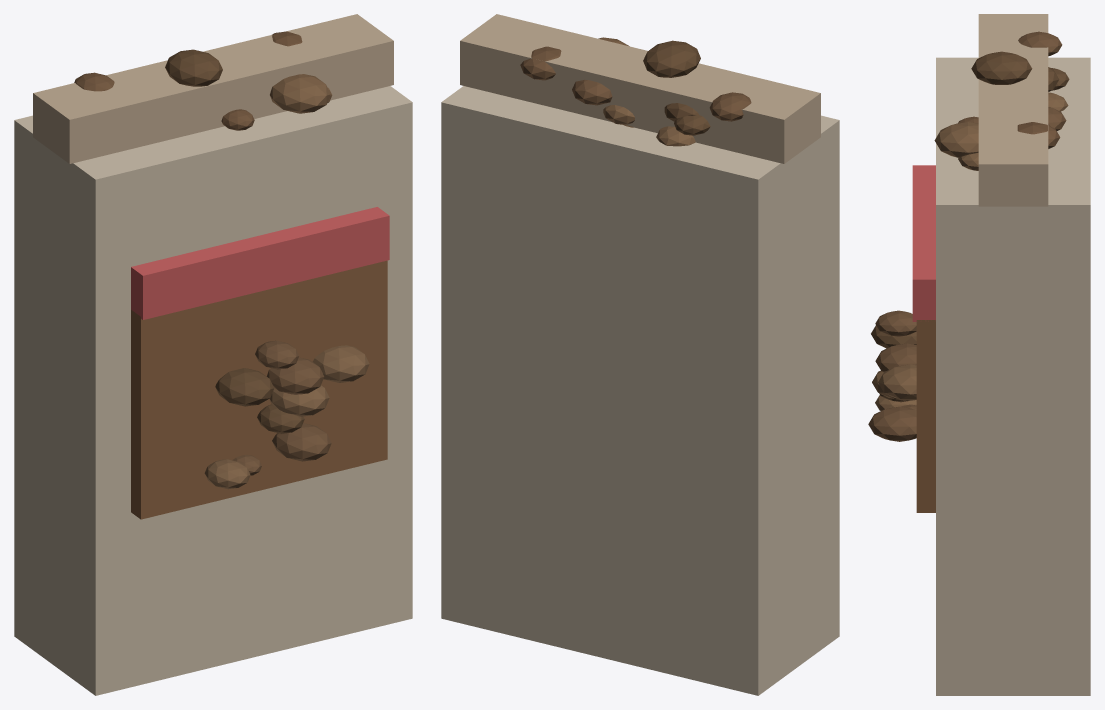
The picture shows the model from 3 angles, left to right: view 1: azimuth 30°, elevation 25°; view 2: azimuth 150°, elevation 25°; view 3: azimuth 270°, elevation 25°; orthographic projection. The views are drawn at different scales.
Parts seen in each view (by area): view 1: world; view 2: world; view 3: world.
Boxes of the visible parts, x1=… form: world: x1=14, y1=14, x2=412, y2=695; world: x1=441, y1=14, x2=839, y2=695; world: x1=868, y1=14, x2=1090, y2=695.
Size of the model in its own units: 0.092 by 0.1582 by 0.0575.
